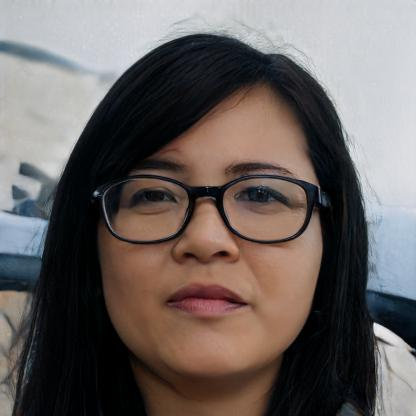glasses: (90, 168, 324, 248)
